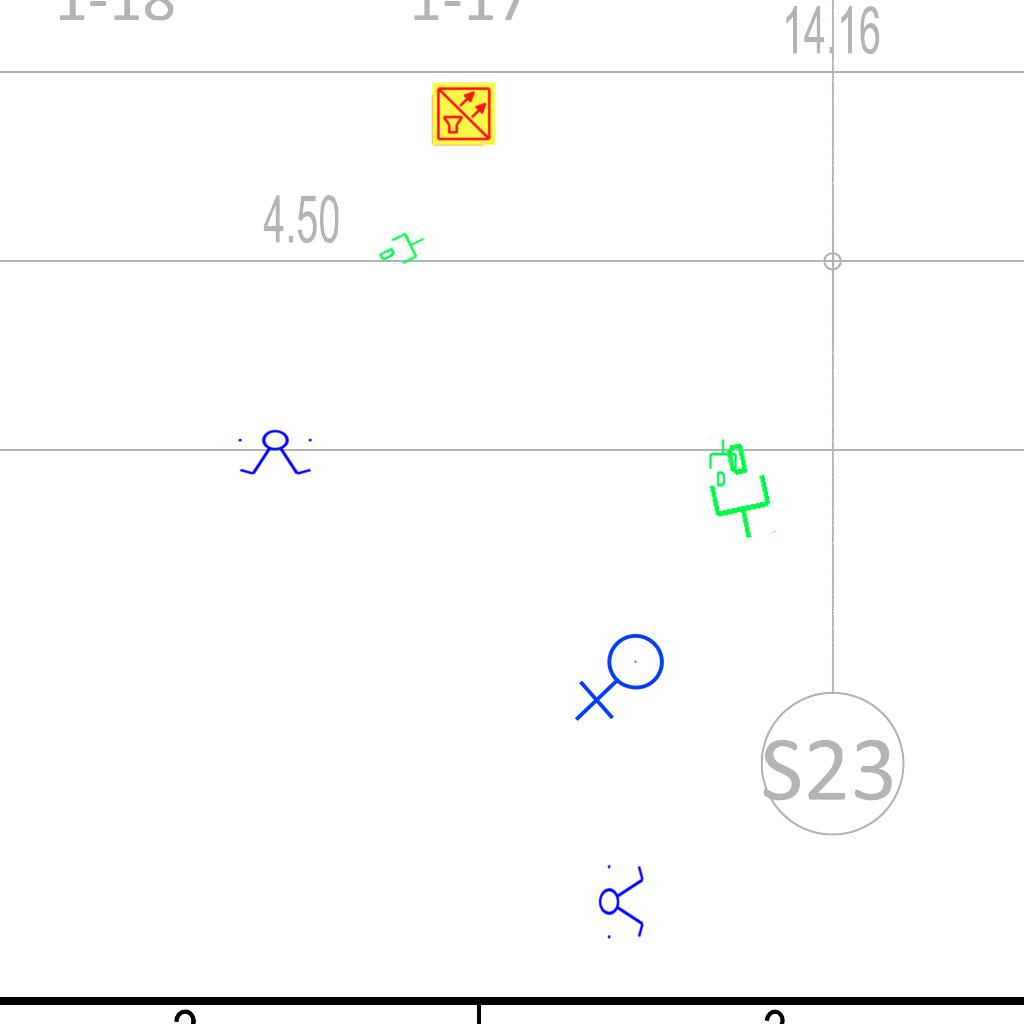Datenanschluss_einfach: (693, 435, 782, 549), (373, 223, 433, 277), (707, 438, 741, 488)
Elektroanschluss_allgemein_230V_Geraeteanschlussdose_230V: (574, 632, 673, 726)
OKW_Multisensormelder_(Kombination_optischer_Rauch-Kahlenmonoxid_Waerme-Melder): (431, 81, 497, 147)
Serienschalter: (234, 429, 318, 477), (598, 859, 646, 943)
